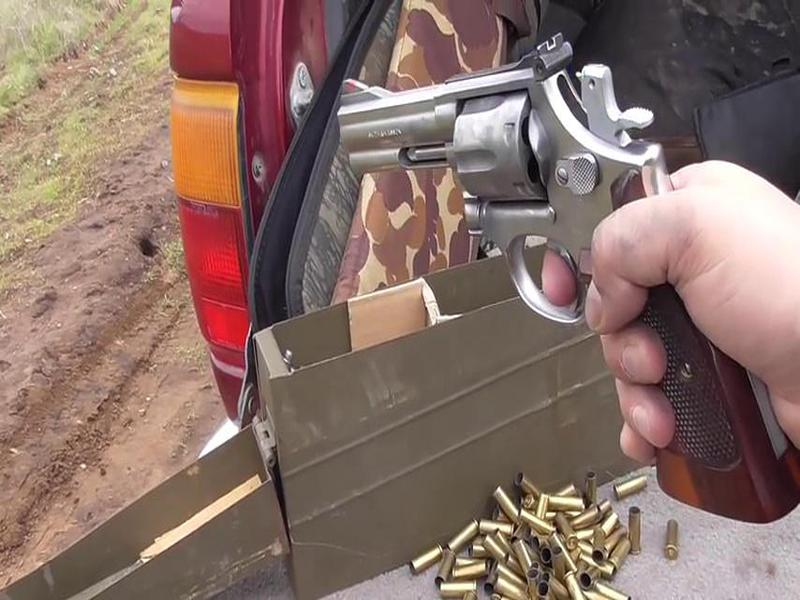Revolver: (335, 9, 761, 450)
